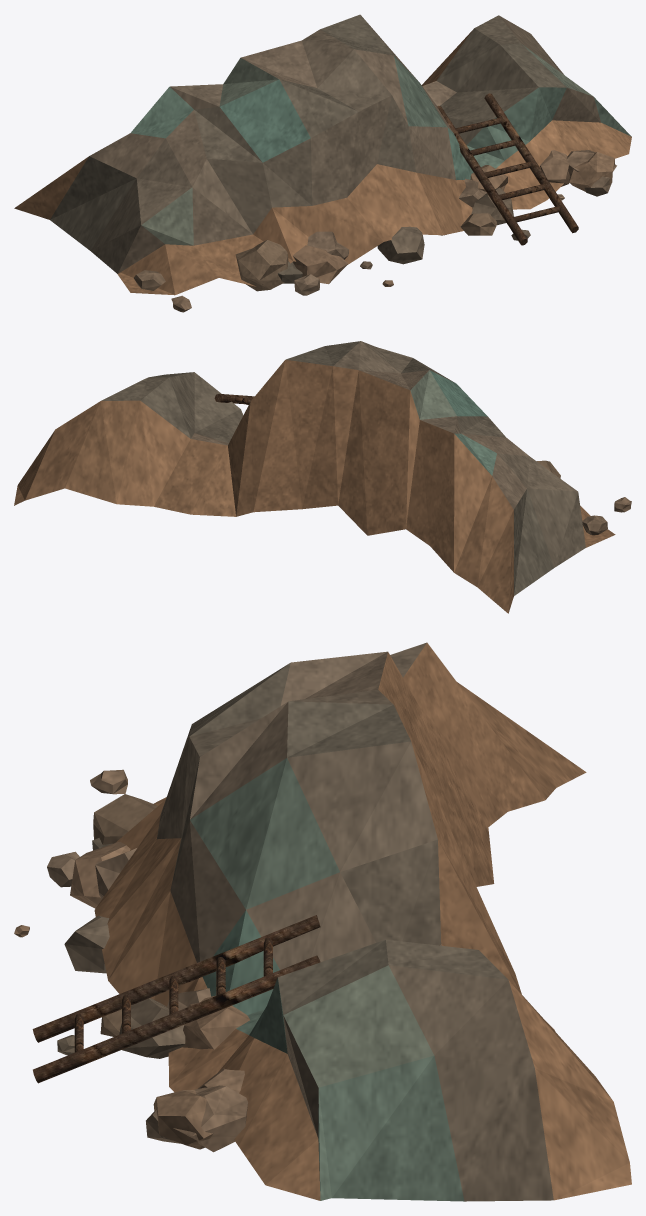
The model's file is shaft.glb.
3 views of the same model, one above another, from view 1: azimuth 30°, elevation 25°; view 2: azimuth 150°, elevation 25°; view 3: azimuth 270°, elevation 25° (orthographic). The views are drawn at different scales.
Parts seen in each view (by area): view 1: part_0, part_1; view 2: part_0; view 3: part_0, part_1.
Part boxes in pixels (bbox=[...]): part_0: bbox=[14, 14, 631, 312]; part_1: bbox=[437, 93, 578, 245]; part_0: bbox=[14, 341, 631, 613]; part_0: bbox=[14, 642, 631, 1201]; part_1: bbox=[32, 915, 320, 1083].
Size of the model in its own units: 3.37 by 1.02 by 2.05.
2 materials, 2 textured.
